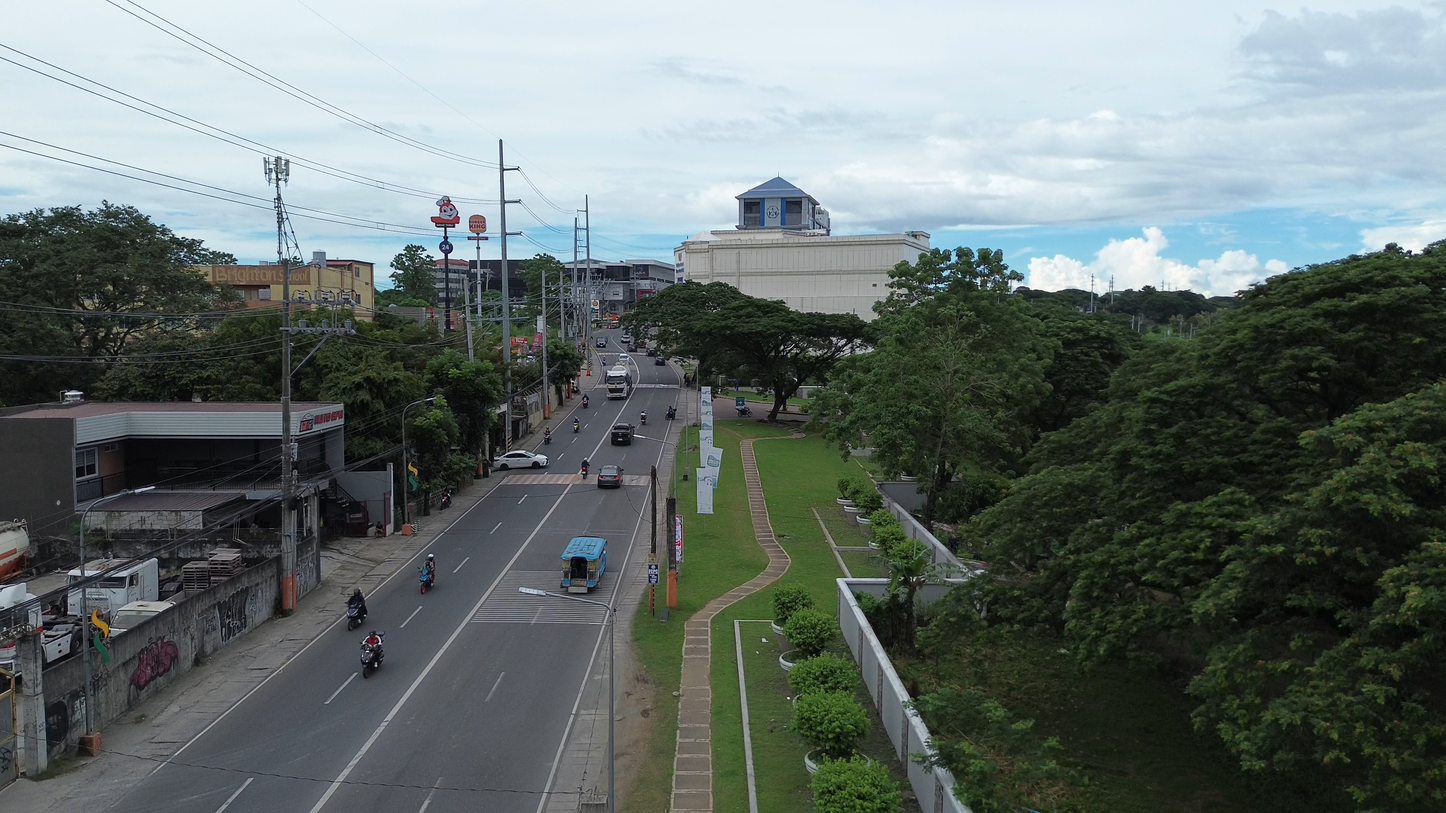car: (494, 449, 548, 470), (617, 353, 631, 364), (646, 347, 658, 356), (654, 356, 666, 365)
motorcycle: (360, 642, 383, 678), (346, 604, 366, 631), (418, 568, 434, 594), (440, 488, 452, 509), (736, 405, 751, 416), (580, 463, 589, 480), (543, 429, 552, 445), (666, 406, 676, 420), (640, 411, 647, 425), (573, 419, 580, 433), (581, 395, 588, 408)
vehicle: (84, 558, 158, 617), (561, 537, 607, 593), (110, 601, 174, 636), (0, 520, 31, 579), (360, 639, 384, 678), (606, 366, 632, 399), (597, 465, 622, 488), (610, 423, 634, 445), (418, 567, 434, 594), (595, 336, 607, 348), (544, 427, 551, 445), (646, 347, 658, 357), (667, 405, 675, 419), (573, 418, 580, 432), (639, 410, 645, 425)
